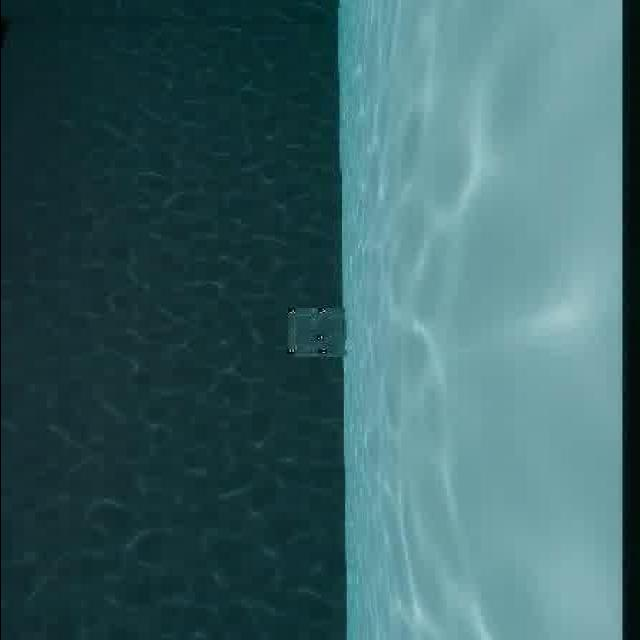Docking Station: (274, 302, 354, 361)
